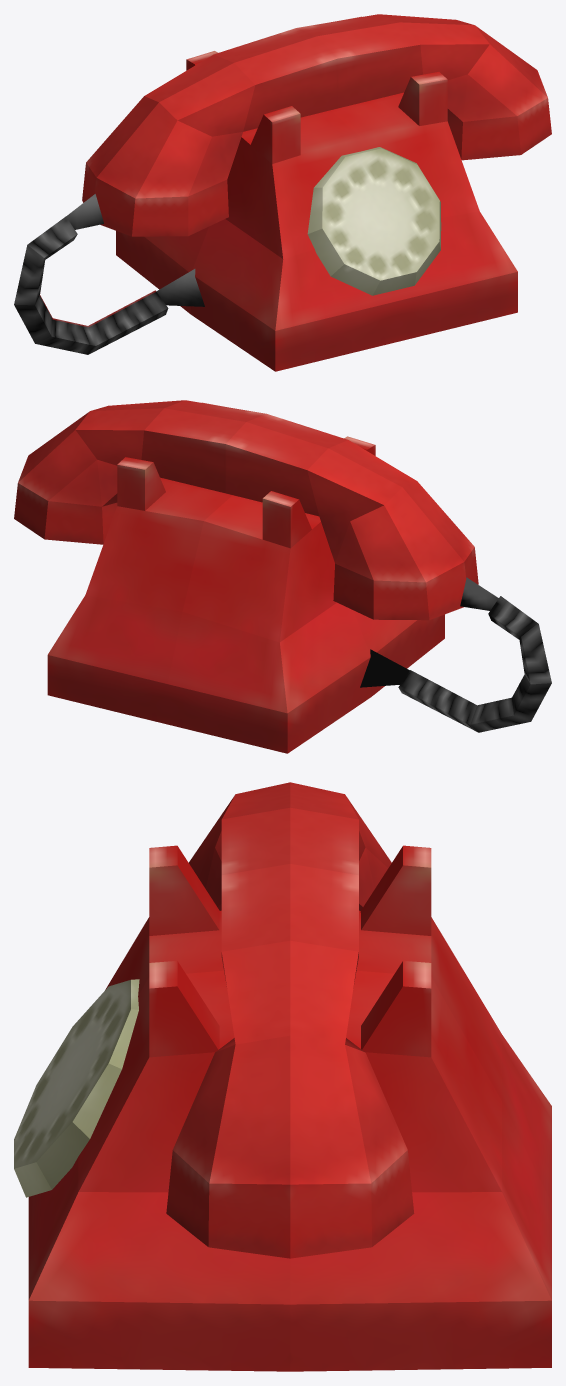
Rendered from phone.fbx.
3 views of the same model, one above another, from view 1: azimuth 30°, elevation 25°; view 2: azimuth 150°, elevation 25°; view 3: azimuth 270°, elevation 25° (orthographic). The views are drawn at different scales.
Parts seen in each view (by area): view 1: Cube.024, Cube.023, Plane.002; view 2: Cube.024, Plane.002; view 3: Cube.024, Cube.023.
Part boxes in pixels (box(x1,y1,x2,y2)): Cube.024: box(82, 14, 551, 371); Cube.023: box(307, 147, 441, 295); Plane.002: box(14, 194, 204, 354); Cube.024: box(14, 400, 478, 753); Plane.002: box(360, 577, 551, 732); Cube.024: box(28, 782, 551, 1371); Cube.023: box(14, 979, 139, 1197).
Size of the model in its own units: 128 by 60 by 68.52.
